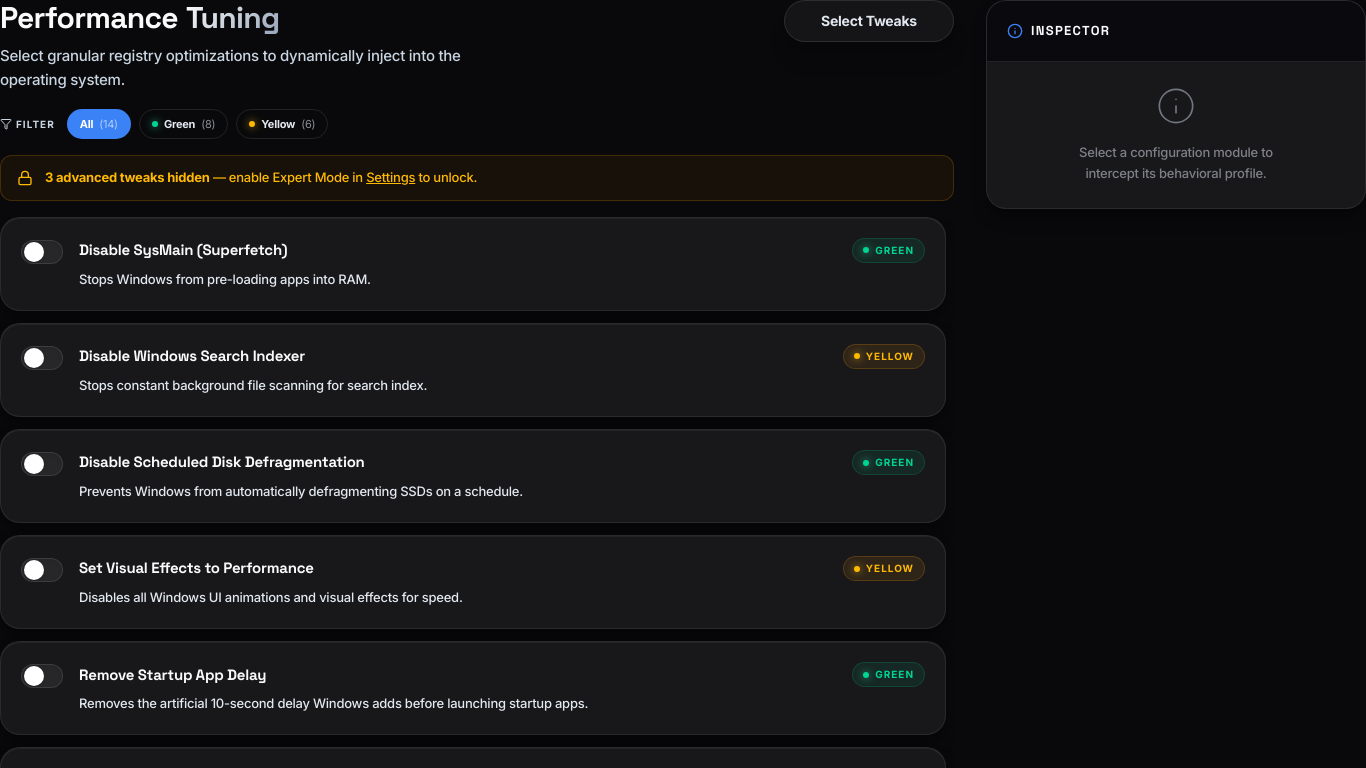
Test: TweaksPage integration › Cancel on ConfirmDeployModal hides the modal without executing
Click the element named "Toggle selection": [42, 252] box [21,240,63,264]
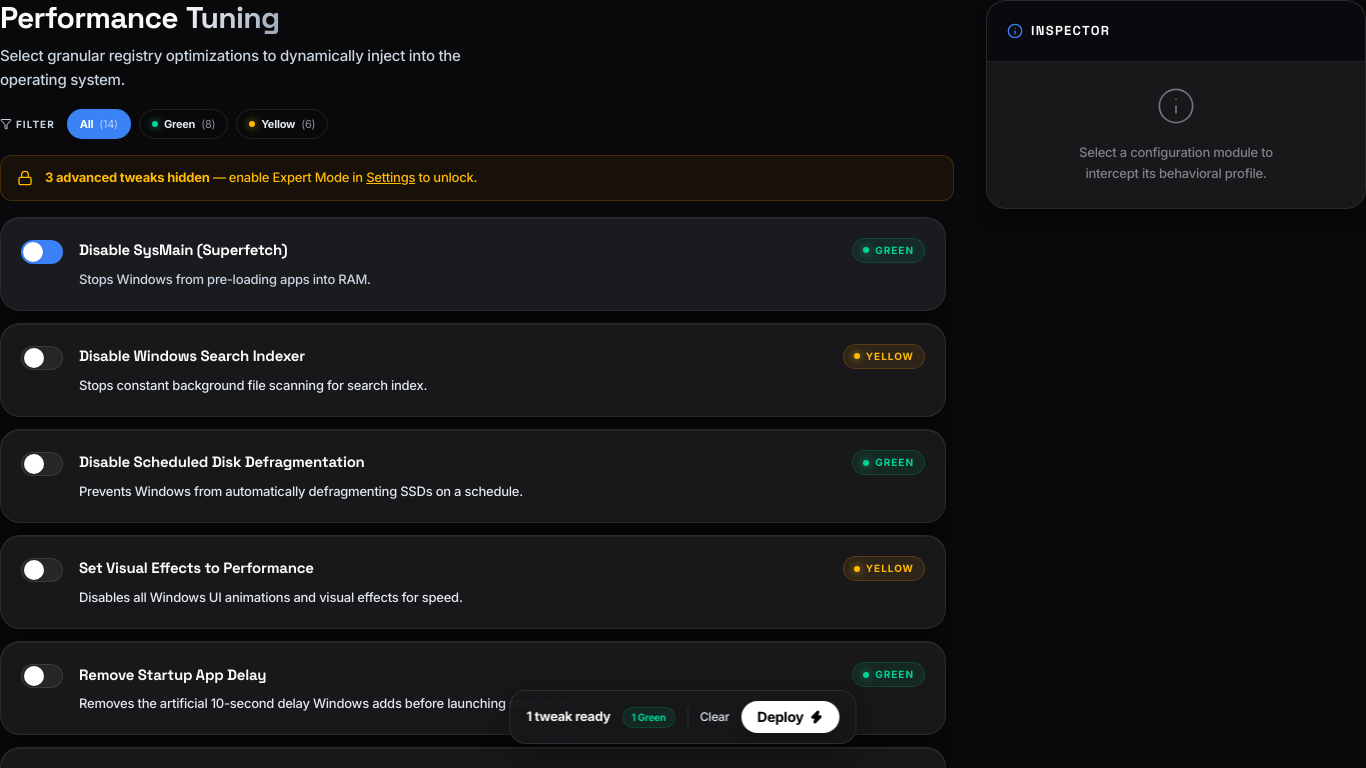
Expected: the text "1 tweak ready" is shown, [526,707,610,727]
Click the button "Deploy": [790, 717] box [741,701,840,733]
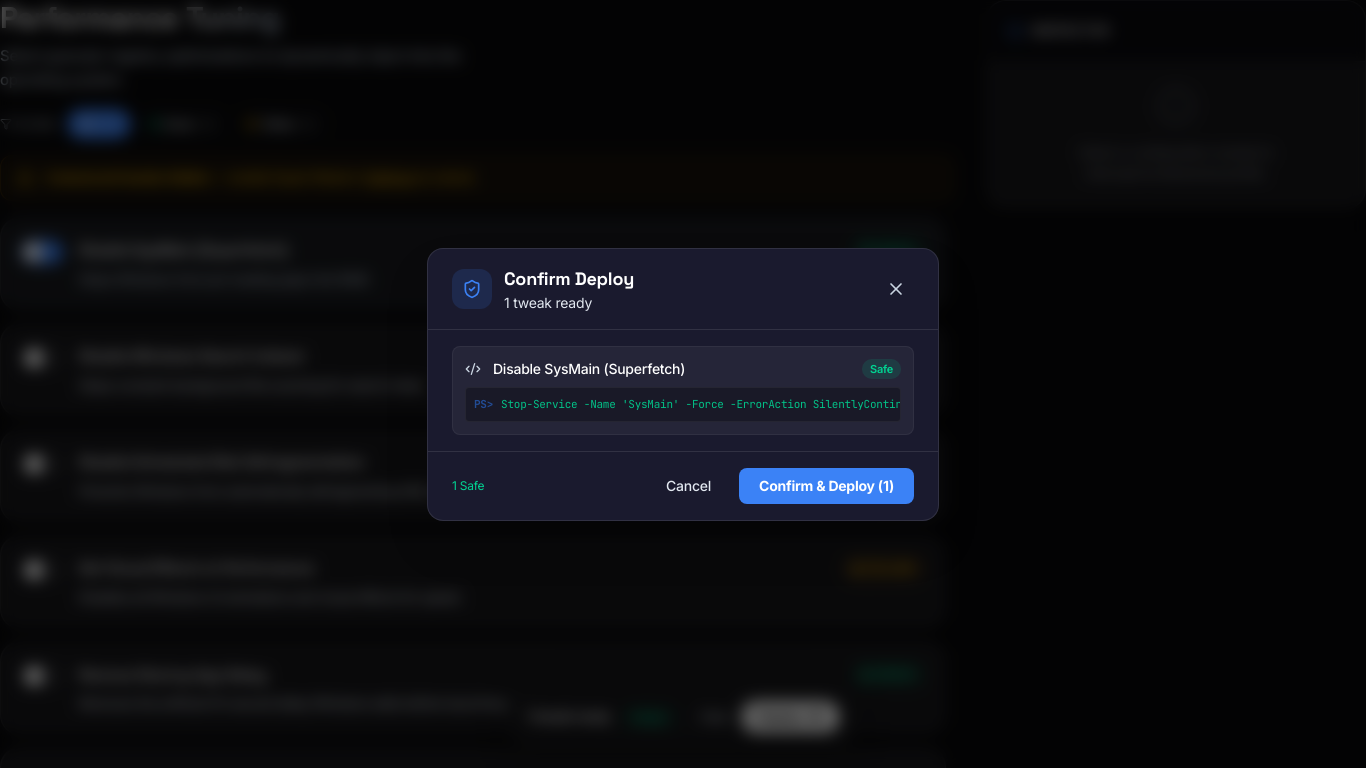
Expected: the heading "Confirm Deploy" is shown, [504,264,634,292]
Click the button "Cancel": [688, 486] box [650,468,727,504]
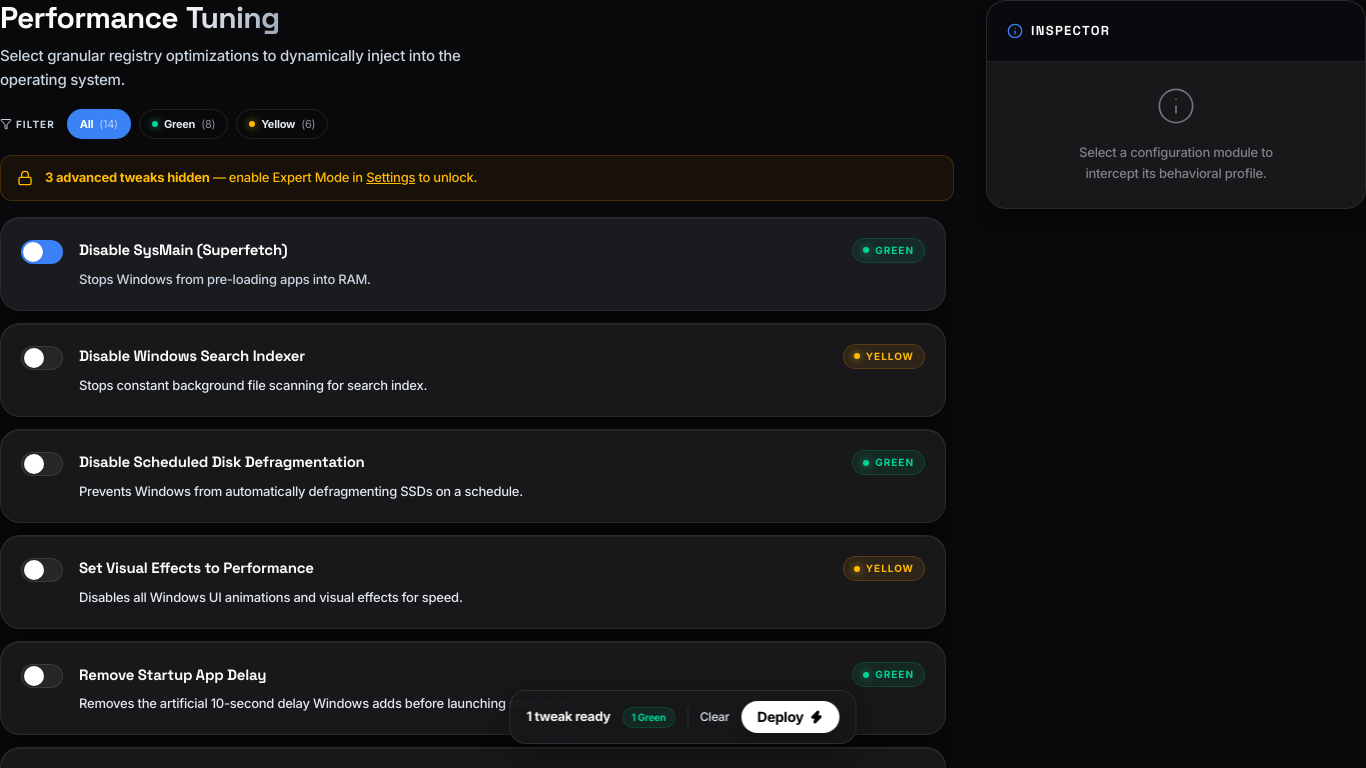
Expected: the heading "Confirm Deploy" is gone
